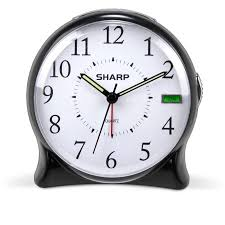alarm_clock: (23, 7, 202, 189), (23, 10, 202, 189)
